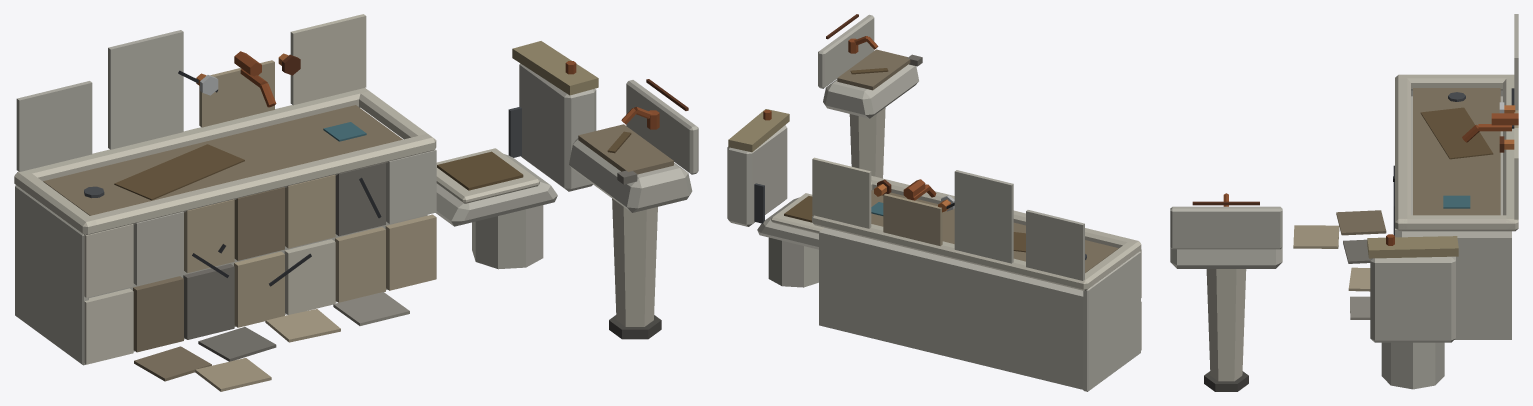
The model's file is furn_bath_set.fbx.
The picture shows the model from 3 angles, left to right: view 1: azimuth 30°, elevation 25°; view 2: azimuth 150°, elevation 25°; view 3: azimuth 270°, elevation 25°; orthographic projection. The views are drawn at different scales.
Parts seen in each view (by area): view 1: furn_bath_set; view 2: furn_bath_set; view 3: furn_bath_set.
Part boxes in pixels (x1,y1,x2,y2): furn_bath_set: (14,14,698,391); furn_bath_set: (727,14,1141,391); furn_bath_set: (1170,14,1518,391).
Bounding box in the file's own units: 2.19 × 1.02 × 1.55.
